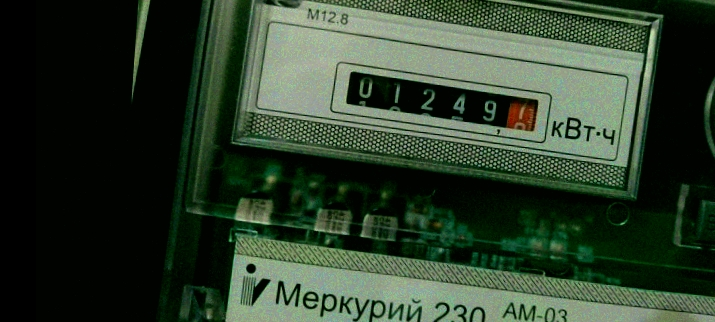0: (357, 73, 376, 100)
1: (388, 78, 404, 105)
2: (418, 86, 437, 113)
4: (451, 89, 469, 115)
7: (515, 94, 531, 121)
9: (479, 96, 498, 123)
screen: (327, 59, 556, 147)
